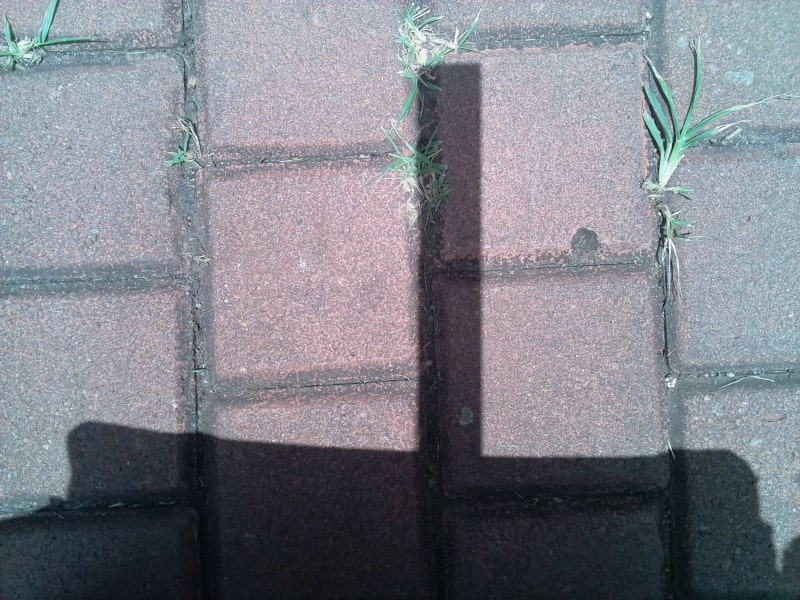Weed: (643, 73, 714, 186), (396, 8, 478, 99), (1, 11, 93, 69), (391, 132, 451, 218), (652, 200, 697, 276), (168, 116, 206, 171), (185, 236, 213, 269)
